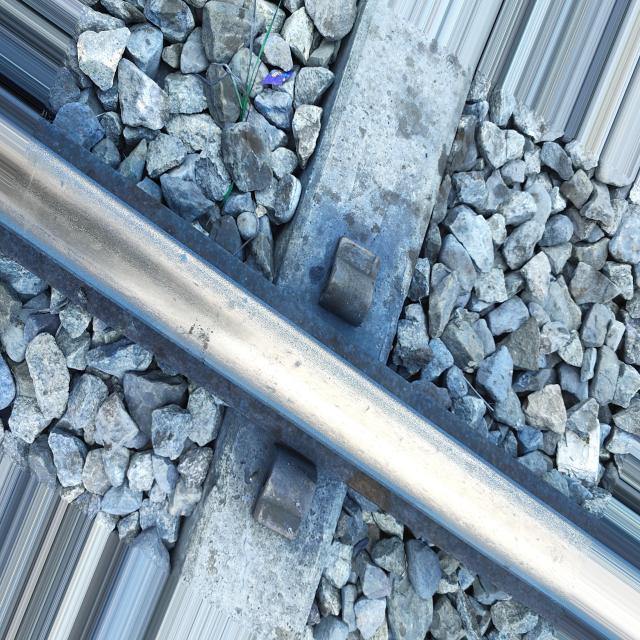broken_rail_medium: (187, 319, 215, 351), (293, 358, 303, 371)
